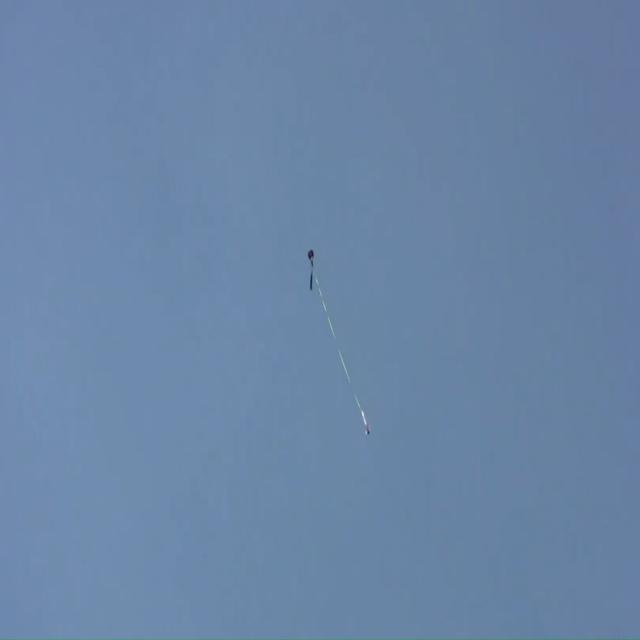Rocket: (362, 411, 369, 434)
